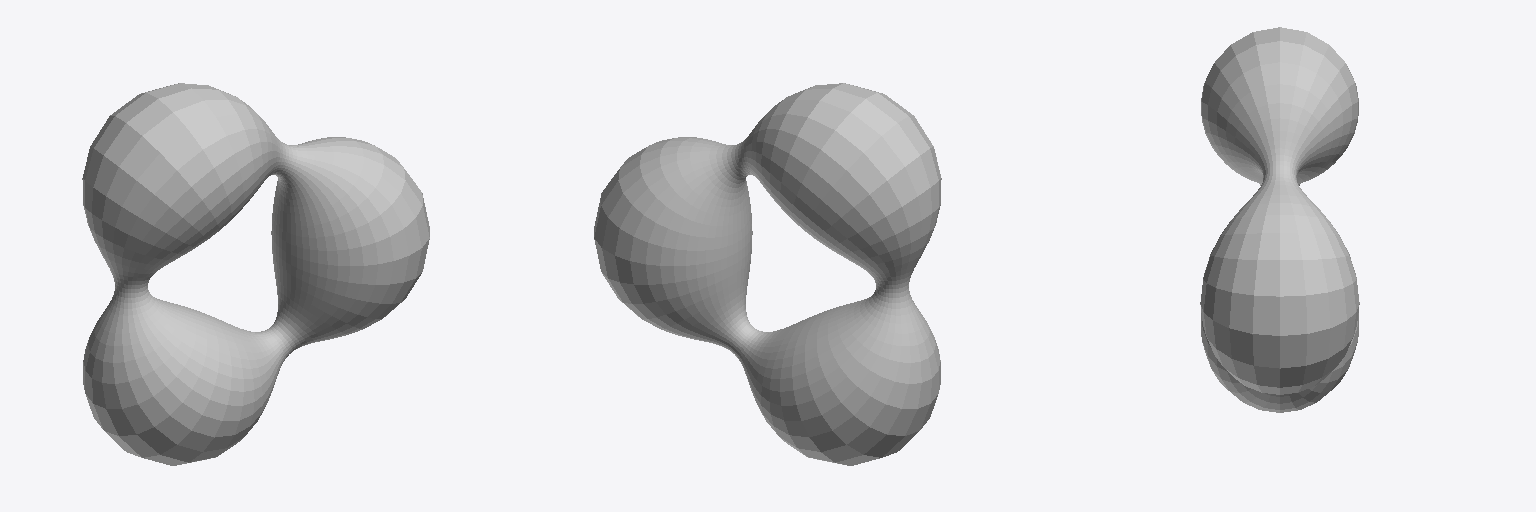
Rendered from 3robesS3Delaunay.obj.
3 views of the same model, side by side, from view 1: azimuth 30°, elevation 25°; view 2: azimuth 150°, elevation 25°; view 3: azimuth 270°, elevation 25° (orthographic).
Bounding box in the file's own units: 3.33 × 3.56 × 1.4.